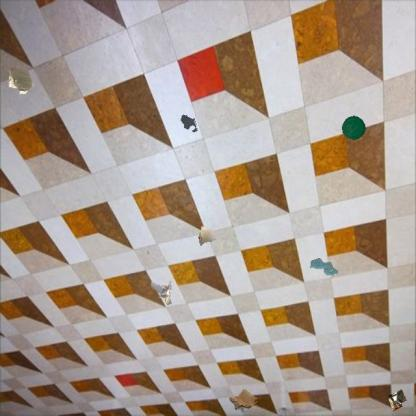dirty: (7, 66, 36, 96), (227, 387, 258, 415), (340, 114, 368, 142), (149, 279, 174, 307), (385, 387, 409, 413), (196, 224, 216, 246)
liquid: (309, 257, 338, 278), (179, 113, 199, 134)
